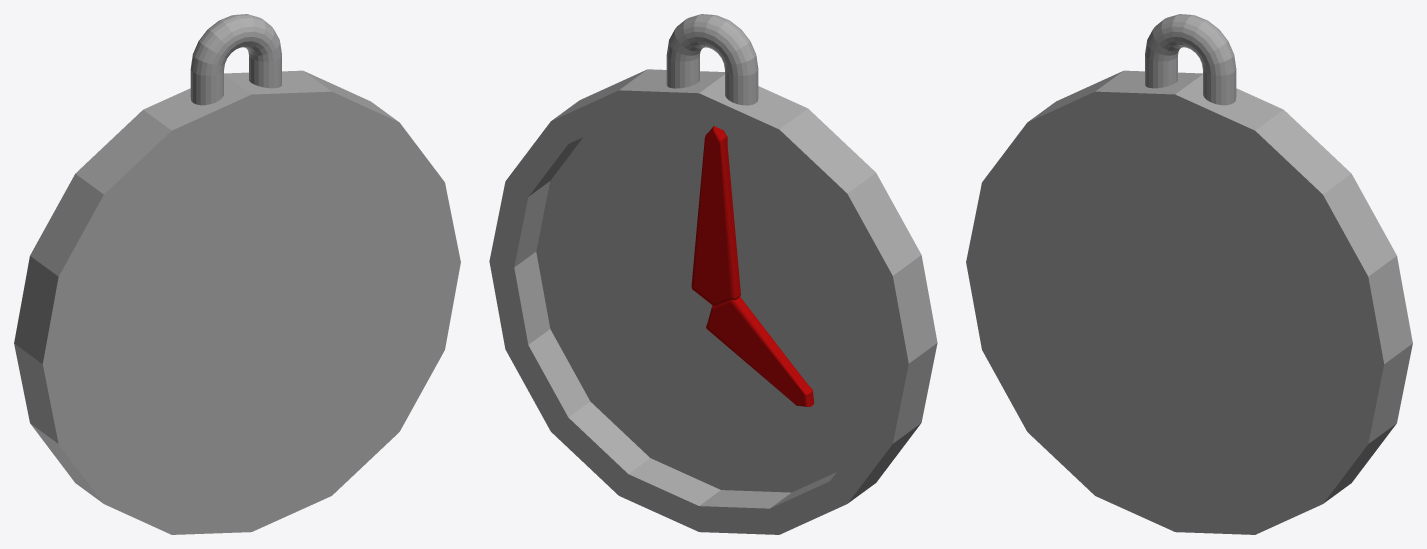
The model's file is watch.fbx.
3 views of the same model, side by side, from view 1: azimuth 30°, elevation 25°; view 2: azimuth 150°, elevation 25°; view 3: azimuth 330°, elevation 25° (orthographic).
Visible parts, largest first — view 1: pCylinder2; view 2: pCylinder2; view 3: pCylinder2.
Part boxes in pixels (x1,y1,x2,y2): pCylinder2: (14, 14, 460, 534); pCylinder2: (489, 14, 937, 534); pCylinder2: (966, 14, 1412, 534).
Size of the model in its own units: 2 by 2.31 by 0.2377.
